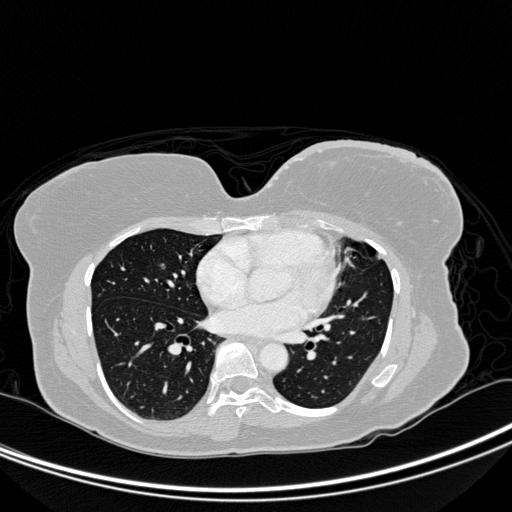nodule: (157, 261, 168, 272)
